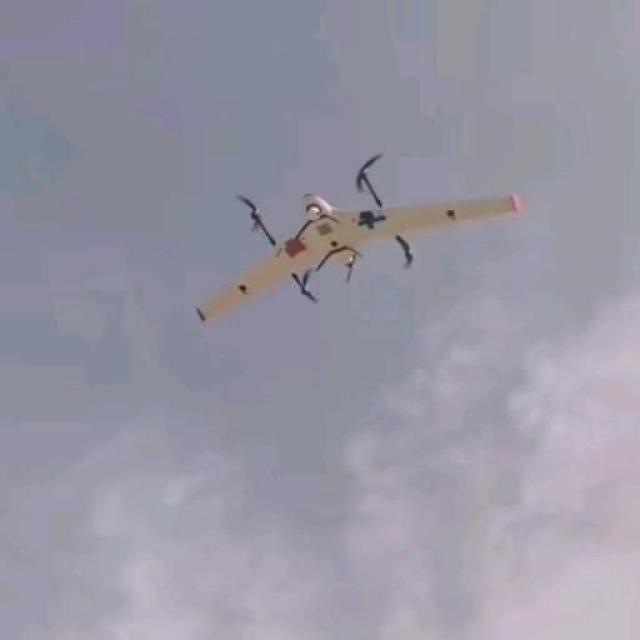iha: (197, 152, 521, 334)
